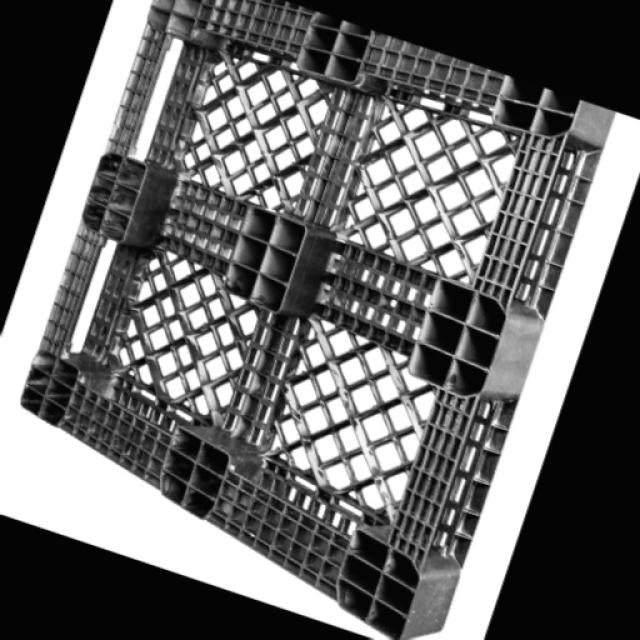non-igps: (17, 0, 621, 640)
